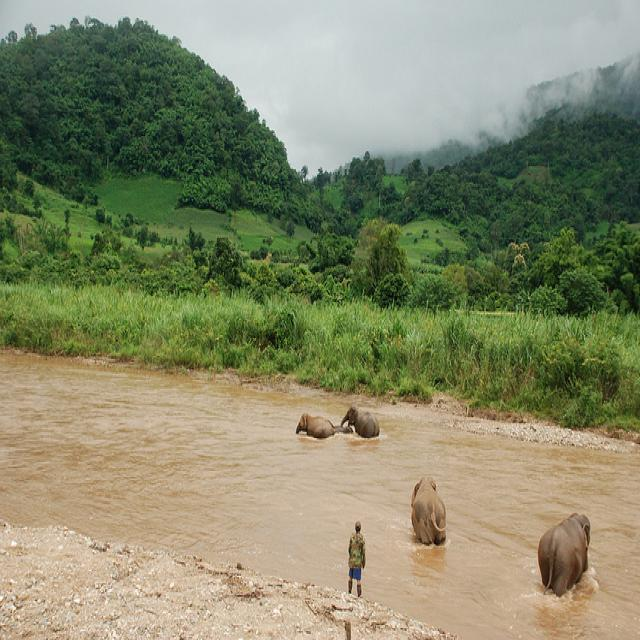Elephant: (537, 512, 590, 596), (410, 474, 446, 546), (295, 411, 353, 438), (340, 404, 379, 438)
person: (347, 520, 365, 597)
